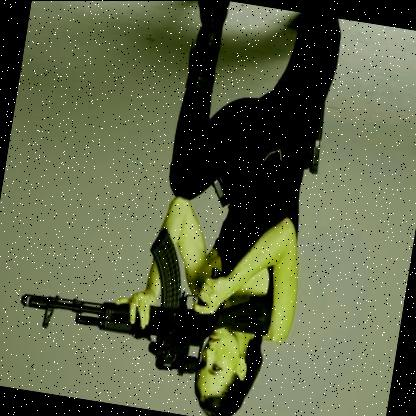rifle: (10, 208, 285, 387), (300, 97, 335, 180)
